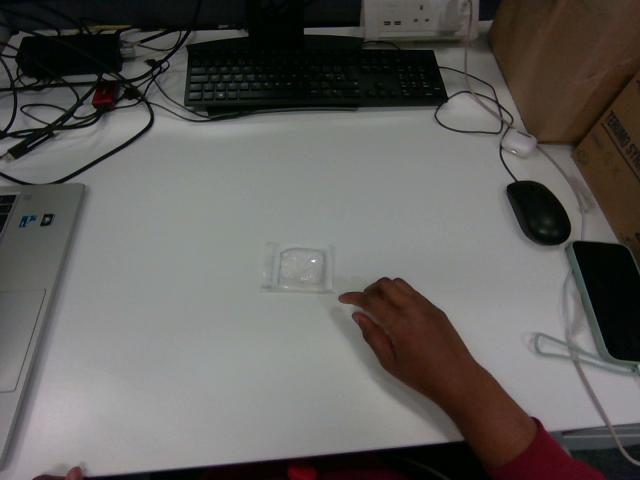gauze: (261, 243, 333, 292)
